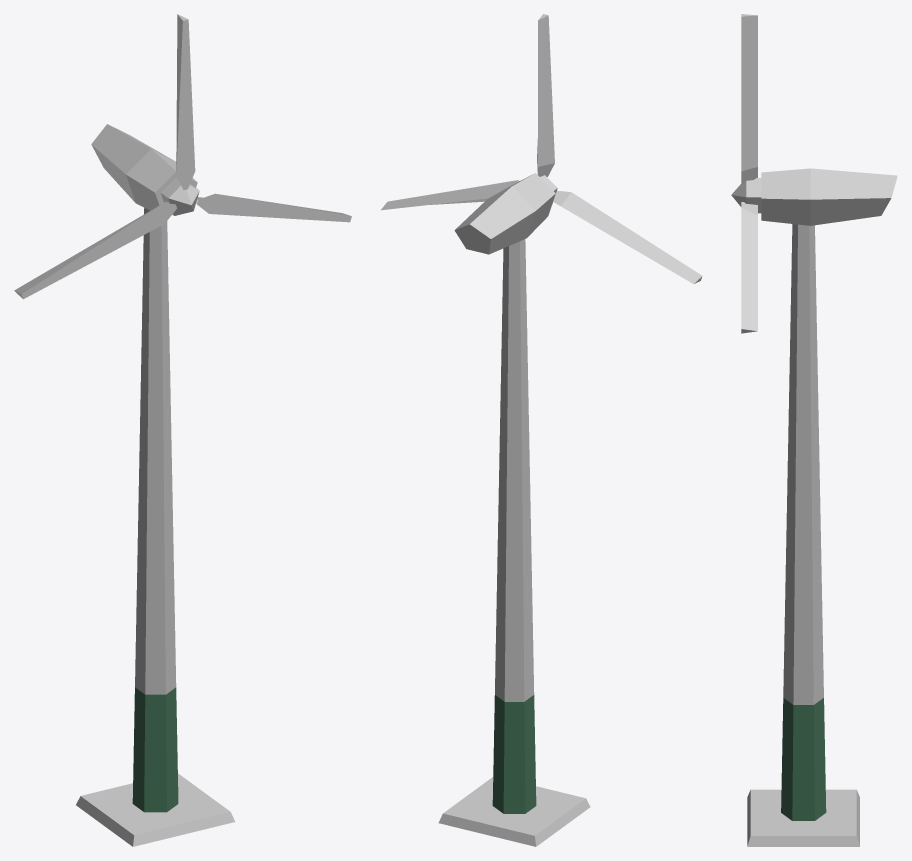
The model's file is windmill_01.fbx.
The picture shows the model from 3 angles, left to right: view 1: azimuth 30°, elevation 25°; view 2: azimuth 150°, elevation 25°; view 3: azimuth 270°, elevation 25°; orthographic projection. The views are drawn at different scales.
Visible parts, largest first — view 1: windmill_01, windmill_01-02, windmill_01-03; view 2: windmill_01, windmill_01-02, windmill_01-03; view 3: windmill_01, windmill_01-03, windmill_01-02.
Boxes of the visible parts, x1,y1,x2,y2 form: windmill_01: [76, 208, 235, 846]; windmill_01-02: [14, 14, 351, 299]; windmill_01-03: [91, 124, 197, 210]; windmill_01: [438, 239, 590, 846]; windmill_01-02: [381, 14, 702, 283]; windmill_01-03: [454, 173, 555, 254]; windmill_01: [747, 224, 859, 846]; windmill_01-03: [761, 168, 897, 225]; windmill_01-02: [731, 14, 761, 333].
Size of the model in its own units: 806 by 1903 by 357.
